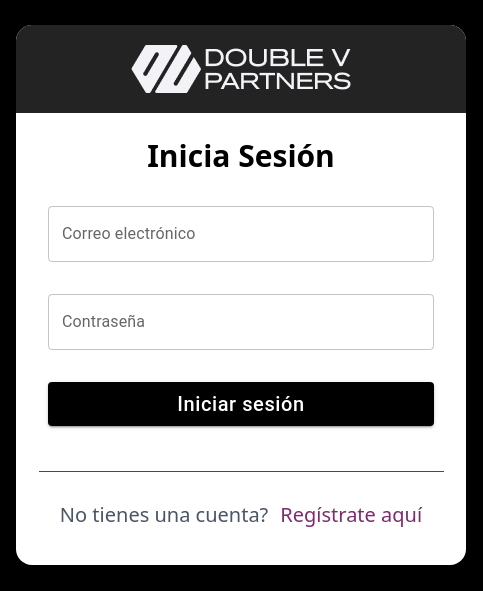
it: Login Page › shows validation errors
What coordinates should you click on to do the following:
click the button "Iniciar sesión"
I would click on:
 (241, 404)
Its box is [48, 382, 434, 426].
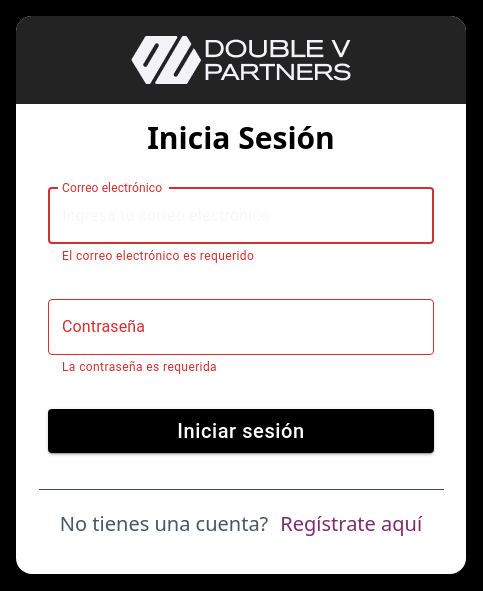
Check: the text "El correo electrónico es requerido" is shown, box [62, 249, 254, 263]
